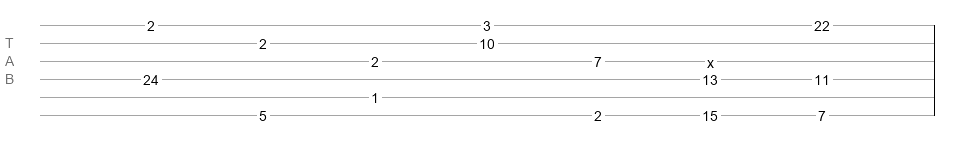1: (371, 90, 379, 100)
10: (479, 36, 495, 46)
11: (814, 72, 830, 82)
13: (702, 72, 718, 82)
15: (702, 108, 718, 118)
2: (147, 18, 155, 28), (259, 36, 267, 46), (371, 54, 379, 64), (594, 108, 602, 118)
22: (814, 18, 830, 28)
24: (143, 72, 159, 82)
3: (483, 18, 491, 28)
5: (259, 108, 267, 118)
7: (594, 54, 602, 64), (818, 108, 826, 118)
x: (707, 55, 714, 63)
